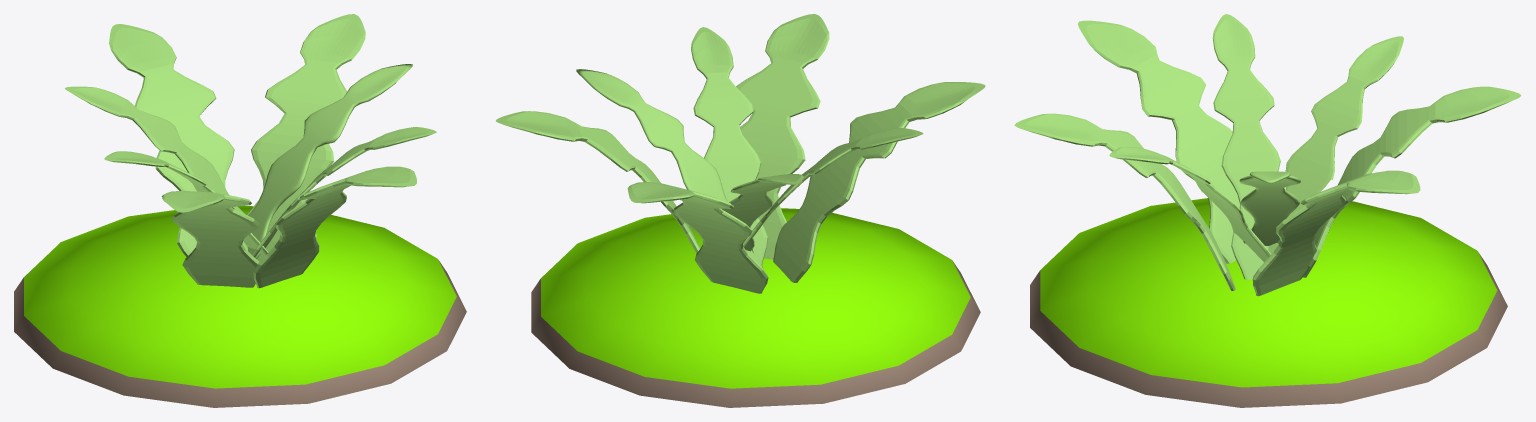
The model's file is Algue-5.gltf.
3 views of the same model, side by side, from view 1: azimuth 30°, elevation 25°; view 2: azimuth 150°, elevation 25°; view 3: azimuth 270°, elevation 25° (orthographic). The views are drawn at different scales.
Parts seen in each view (by area): view 1: Default-04___Default, Default-01___Default, Default-03___Default; view 2: Default-04___Default, Default-01___Default, Default-03___Default; view 3: Default-04___Default, Default-01___Default, Default-03___Default.
Boxes of the visible parts, x1,y1,x2,y2 form: Default-04___Default: (24, 205, 456, 388); Default-01___Default: (65, 14, 436, 288); Default-03___Default: (14, 261, 466, 407); Default-04___Default: (541, 208, 970, 388); Default-01___Default: (496, 14, 985, 293); Default-03___Default: (531, 261, 980, 407); Default-04___Default: (1040, 198, 1497, 387); Default-01___Default: (1014, 14, 1521, 296); Default-03___Default: (1030, 252, 1507, 407).
Size of the model in its own units: 110 by 54.17 by 116.
